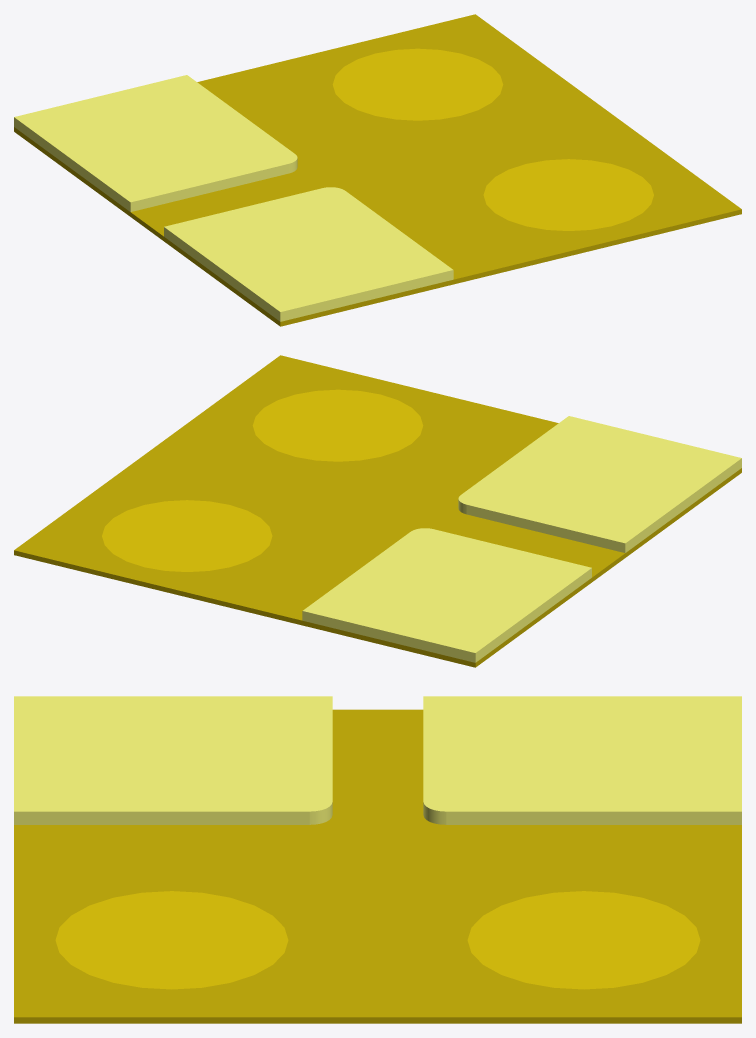
3 renders of one model, top to bottom at view 1: azimuth 30°, elevation 25°; view 2: azimuth 150°, elevation 25°; view 3: azimuth 270°, elevation 25°, orthographic. The views are drawn at different scales.
Visible parts, largest first — view 1: 7; view 2: 7; view 3: 7.
Part boxes in pixels (<box>): 7: <box>14,14,741,326</box>; 7: <box>14,355,741,667</box>; 7: <box>14,696,741,1023</box>.
Size of the model in its own units: 5000 by 151 by 5000.
